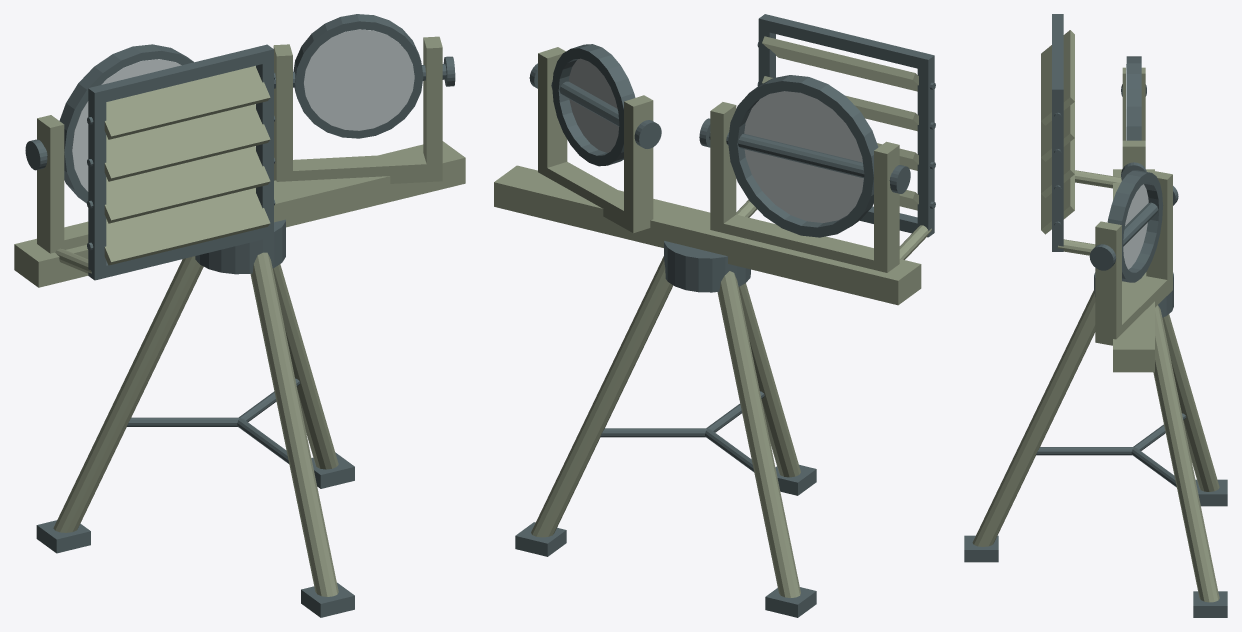
3 views of the same model, side by side, from view 1: azimuth 30°, elevation 25°; view 2: azimuth 150°, elevation 25°; view 3: azimuth 270°, elevation 25° (orthographic). The views are drawn at different scales.
Visible parts, largest first — view 1: WholeOpenShutterFrame, SecondaryWholeOpaqueMirrorFace, SecondaryWholeUFork, WholeTransverseInstrumentBeam, WholeSplayedLeg_0, WholeSplayedLeg_2, WholeFixedTiltedShutterLeaf_2, WholeFixedTiltedShutterLeaf_1, WholeFixedTiltedShutterLeaf_0, WholeFixedTiltedShutterLeaf_3, SecondaryWholeRoundMirrorRim, PrimaryWholeUFork (+9 smaller); view 2: WholeTransverseInstrumentBeam, PrimaryWholeOpaqueMirrorFace, PrimaryWholeUFork, SecondaryWholeUFork, WholeSplayedLeg_2, WholeOpenShutterFrame, PrimaryWholeRoundMirrorRim, WholeSplayedLeg_1, SecondaryWholeRoundMirrorRim, WholeSplayedLeg_0, WholeTripodCrown, WholeFixedTiltedShutterLeaf_3 (+9 smaller); view 3: SecondaryWholeUFork, WholeSplayedLeg_1, WholeSplayedLeg_0, SecondaryWholeRoundMirrorRim, WholeSplayedLeg_2, WholeOpenShutterFrame, WholeTransverseInstrumentBeam, WholeFixedTiltedShutterLeaf_3, PrimaryWholeRoundMirrorRim, PrimaryWholeUFork, SecondaryWholeOpaqueMirrorFace, WholeSpreader_0 (+11 smaller).
Part boxes in pixels (left/top/right/bottom): WholeOpenShutterFrame: left=88, top=44, right=273, bottom=280; SecondaryWholeOpaqueMirrorFace: left=303, top=29, right=414, bottom=130; SecondaryWholeUFork: left=273, top=36, right=442, bottom=183; WholeTransverseInstrumentBeam: left=14, top=141, right=465, bottom=287; WholeSplayedLeg_0: left=250, top=252, right=338, bottom=596; WholeSplayedLeg_2: left=53, top=256, right=203, bottom=532; WholeFixedTiltedShutterLeaf_2: left=104, top=104, right=270, bottom=181; WholeFixedTiltedShutterLeaf_1: left=104, top=146, right=270, bottom=223; WholeFixedTiltedShutterLeaf_0: left=104, top=188, right=270, bottom=265; WholeFixedTiltedShutterLeaf_3: left=104, top=65, right=270, bottom=139; SecondaryWholeRoundMirrorRim: left=293, top=14, right=423, bottom=138; PrimaryWholeUFork: left=37, top=115, right=88, bottom=253; WholeTransverseInstrumentBeam: left=494, top=165, right=921, bottom=305; PrimaryWholeOpaqueMirrorFace: left=744, top=91, right=863, bottom=222; PrimaryWholeUFork: left=710, top=102, right=899, bottom=272; SecondaryWholeUFork: left=538, top=47, right=653, bottom=233; WholeSplayedLeg_2: left=717, top=271, right=800, bottom=597; WholeOpenShutterFrame: left=758, top=14, right=934, bottom=237; PrimaryWholeRoundMirrorRim: left=728, top=75, right=878, bottom=237; WholeSplayedLeg_1: left=531, top=256, right=673, bottom=537; SecondaryWholeRoundMirrorRim: left=552, top=44, right=635, bottom=166; WholeSplayedLeg_0: left=738, top=283, right=800, bottom=477; WholeTripodCrown: left=664, top=241, right=750, bottom=292; WholeFixedTiltedShutterLeaf_3: left=762, top=36, right=918, bottom=91; SecondaryWholeUFork: left=1095, top=170, right=1172, bottom=345; WholeSplayedLeg_1: left=1153, top=305, right=1219, bottom=602; WholeSplayedLeg_0: left=972, top=290, right=1095, bottom=546; SecondaryWholeRoundMirrorRim: left=1107, top=170, right=1162, bottom=282; WholeSplayedLeg_2: left=1162, top=314, right=1219, bottom=491; WholeOpenShutterFrame: left=1052, top=14, right=1063, bottom=251; WholeTransverseInstrumentBeam: left=1113, top=169, right=1154, bottom=372; WholeFixedTiltedShutterLeaf_3: left=1041, top=30, right=1074, bottom=125; PrimaryWholeRoundMirrorRim: left=1126, top=56, right=1141, bottom=140; PrimaryWholeUFork: left=1122, top=67, right=1145, bottom=168; SecondaryWholeOpaqueMirrorFace: left=1123, top=184, right=1148, bottom=269; WholeSpreader_0: left=1036, top=447, right=1133, bottom=455.
Size of the model in its own units: 1.12 by 1.33 by 0.69.
